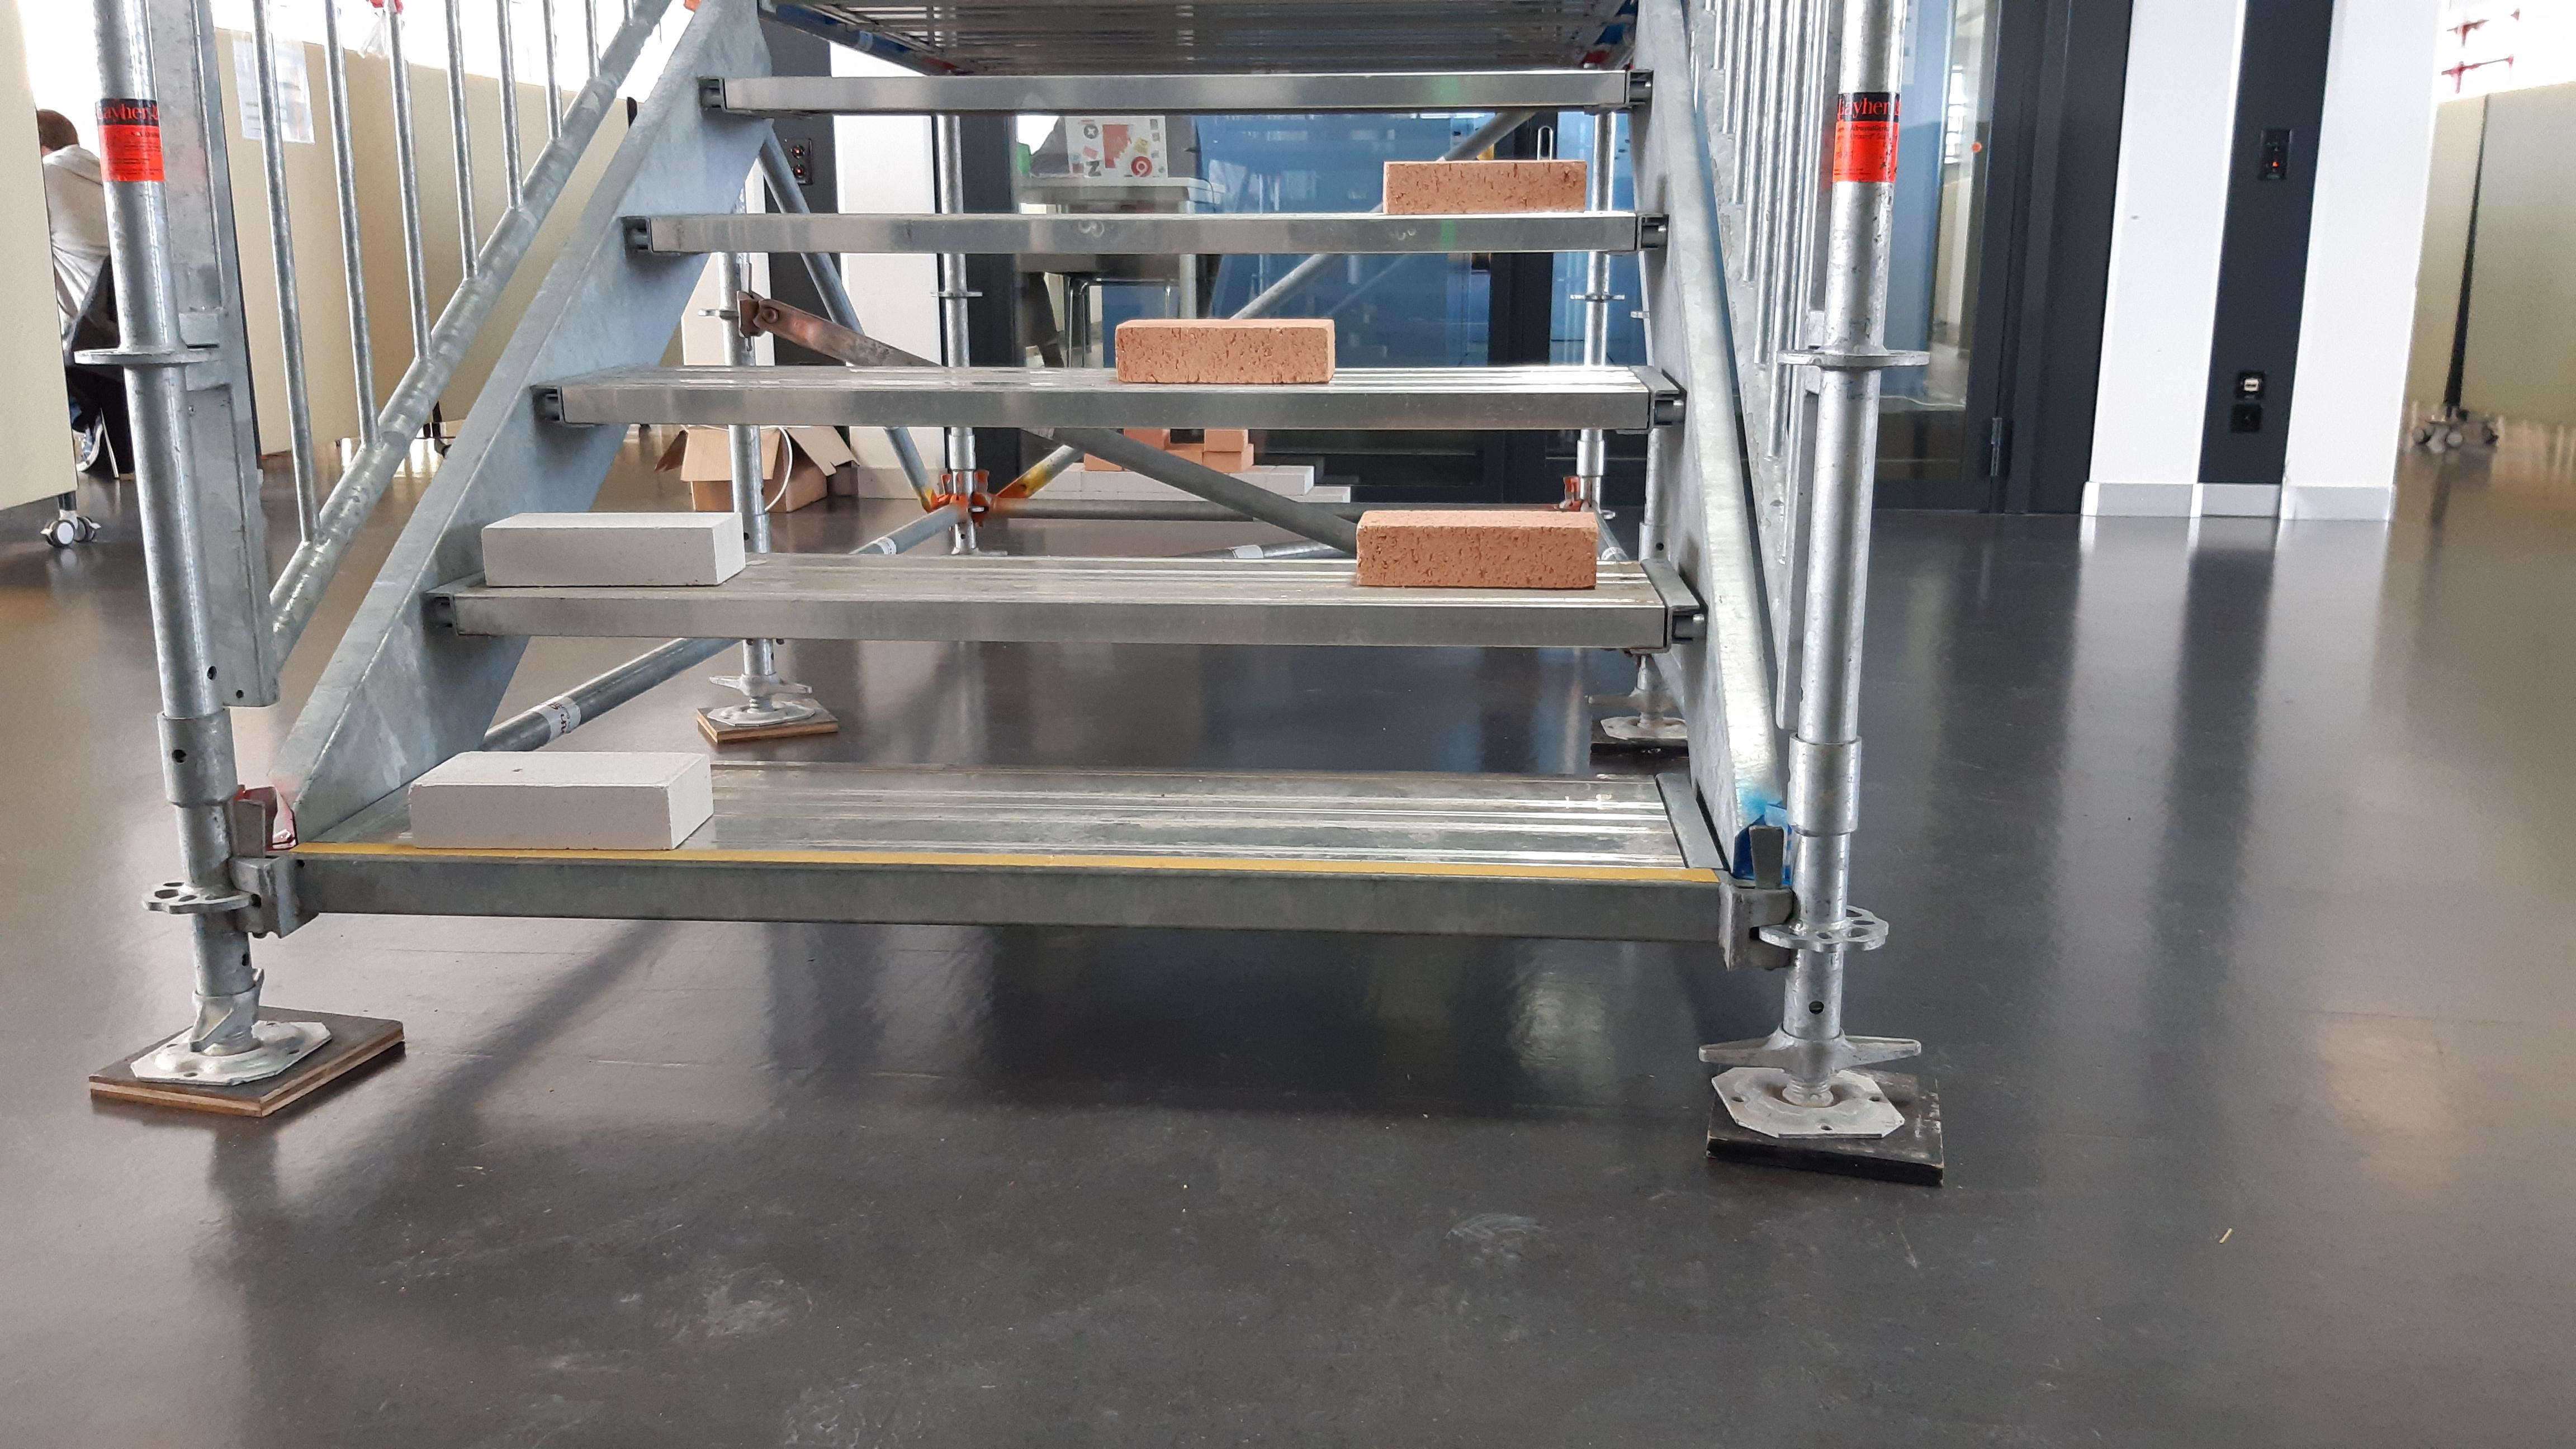brick: (407, 750, 711, 846), (1355, 508, 1601, 586), (483, 511, 745, 582), (1116, 318, 1332, 382), (1384, 156, 1589, 214)
edge: (297, 846, 1721, 959), (418, 589, 1704, 649), (540, 375, 1688, 432), (630, 211, 1667, 253), (702, 69, 1652, 108)
stairs: (83, 7, 1944, 1191)
